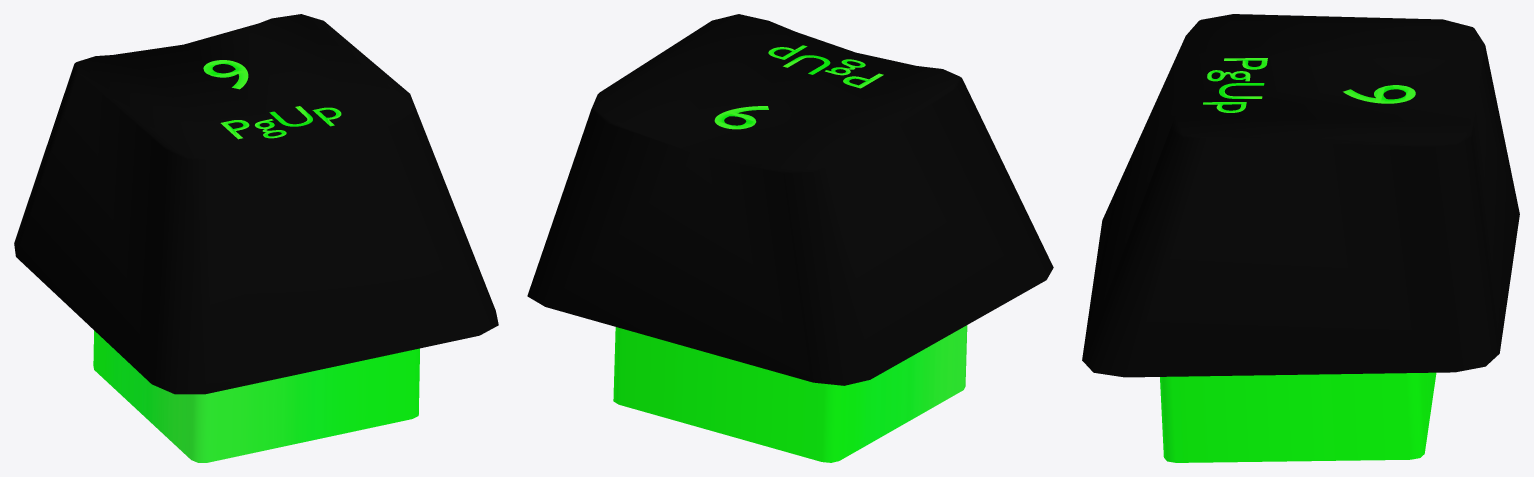
File: key_9_pg_up-d_DRCUaE.glb
The picture shows the model from 3 angles, left to right: view 1: azimuth 30°, elevation 25°; view 2: azimuth 150°, elevation 25°; view 3: azimuth 270°, elevation 25°; orthographic projection. The views are drawn at different scales.
Visible parts, largest first — view 1: StudyShelf_1201; view 2: StudyShelf_1201; view 3: StudyShelf_1201.
Part boxes in pixels (x1,y1,x2,y2): StudyShelf_1201: [14, 14, 498, 462]; StudyShelf_1201: [527, 14, 1053, 462]; StudyShelf_1201: [1082, 14, 1519, 462].
Bounding box in the file's own units: 4.35 × 3.62 × 4.35.
Materials: 2 (1 with a texture image).
